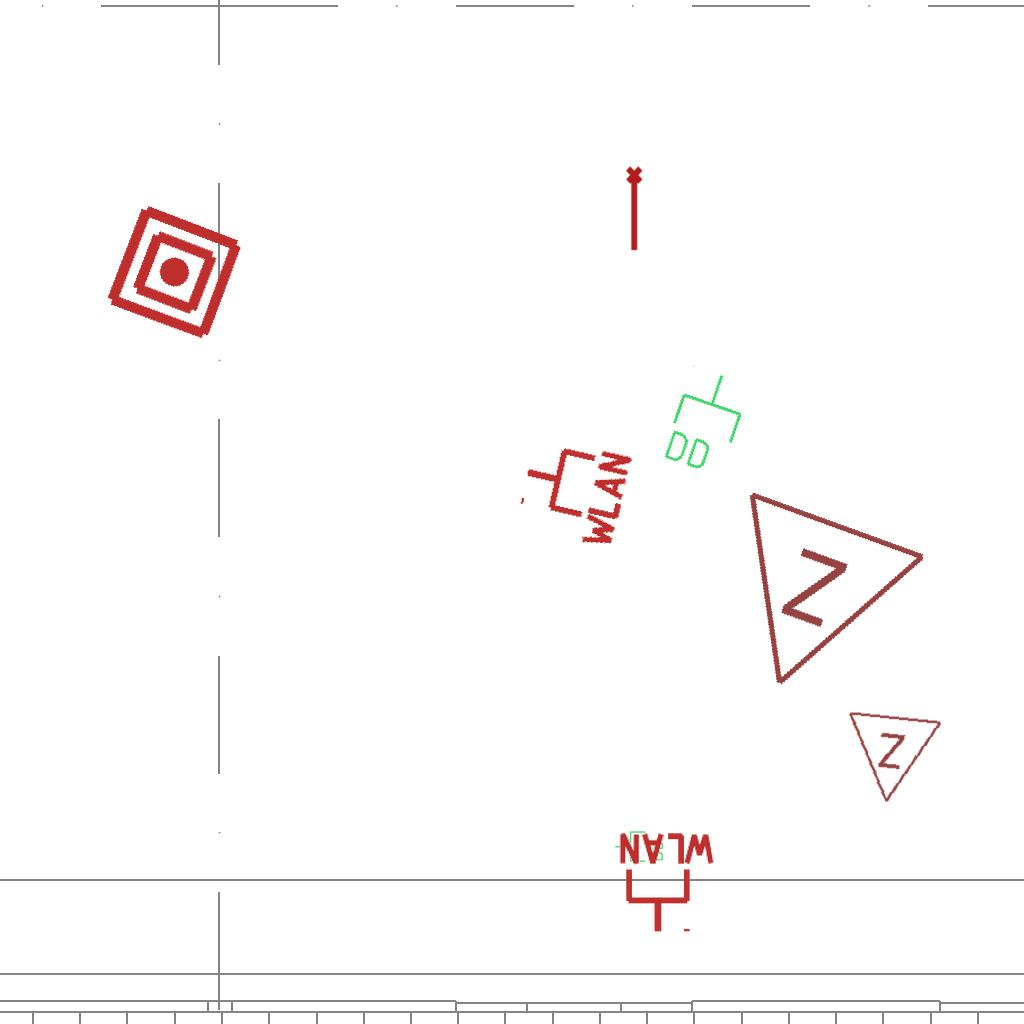ASR_Ansaugoeffnung: (624, 165, 647, 253)
Datenanschluss_zweifach: (656, 361, 755, 482), (614, 830, 665, 864)
NAM-Nichtautomatischer_Melder: (101, 199, 248, 346)
WLAN: (509, 429, 636, 555), (615, 831, 719, 936)
Zimmersignalleuchte: (684, 476, 938, 732), (838, 704, 946, 814)
